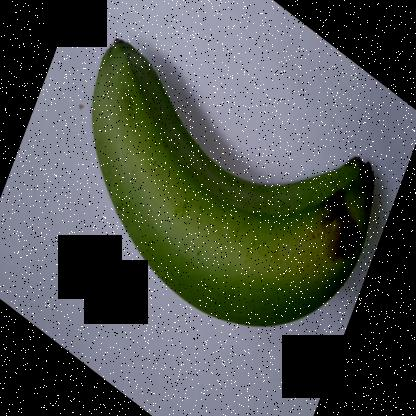freshunripe: (83, 22, 389, 350)
